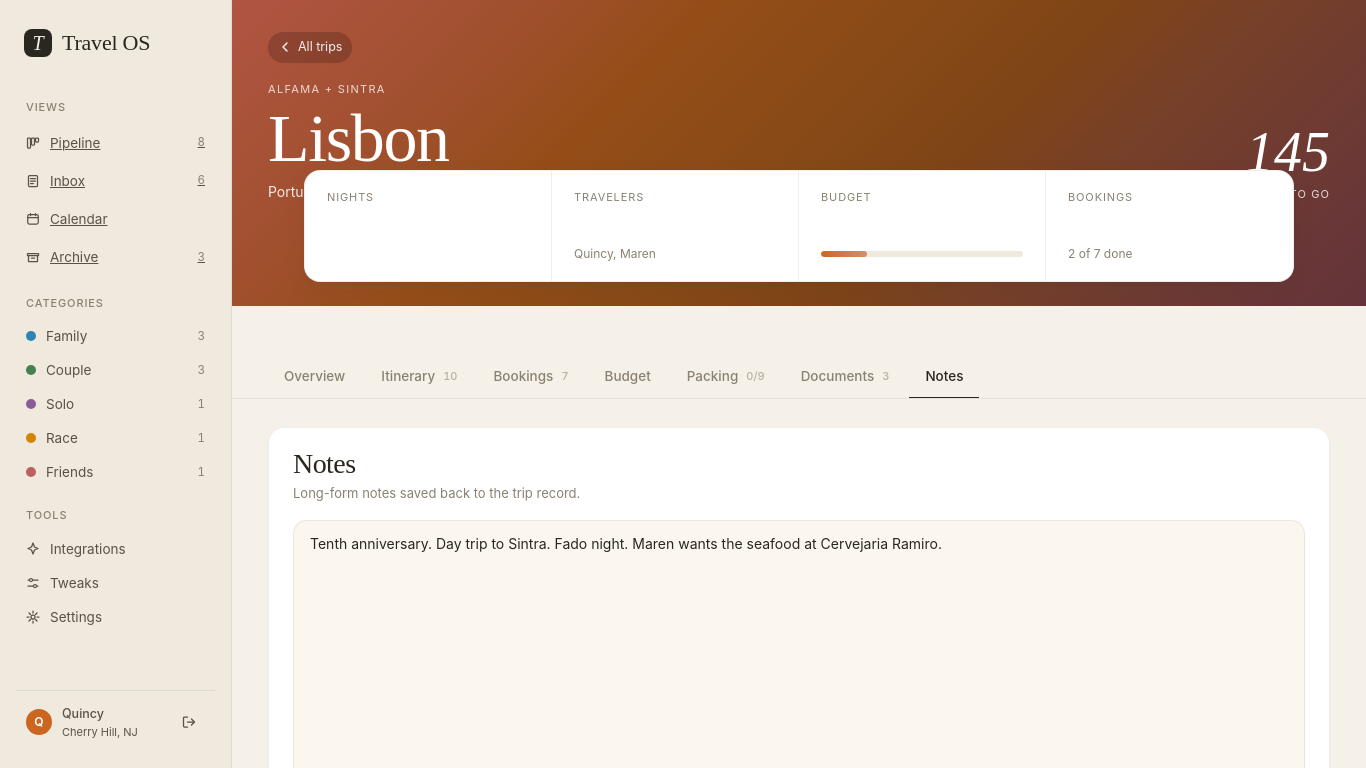
Test case: route components › budget tab shows split section for trips with splits data
Expected: the heading "Lisbon" is shown, x1=268 y1=107 x2=467 y2=171
What coordinates should you click on to do the following:
click the tab "Budget"
I would click on:
 (628, 378)
Its box is x1=588 y1=358 x2=667 y2=399.
(page scrolled)
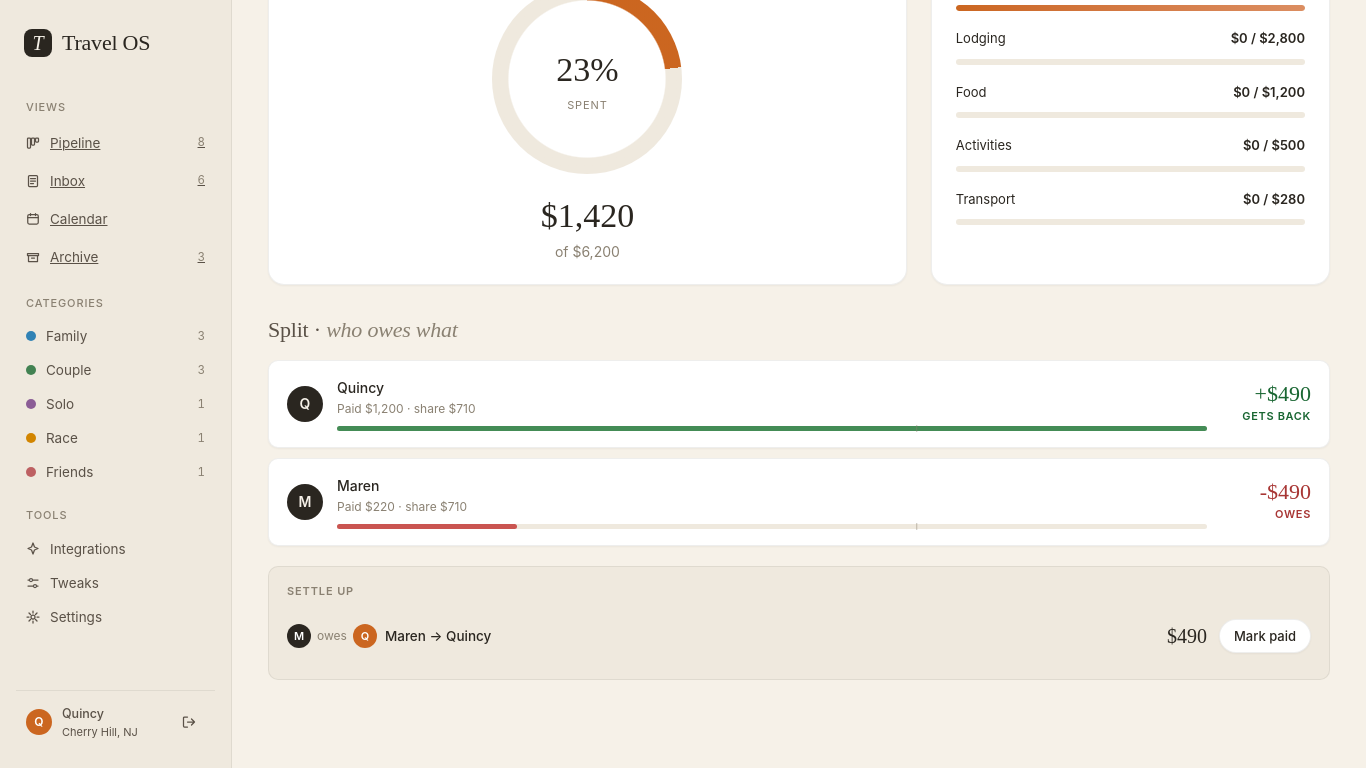
Result: the text "who owes what" is shown at x1=326 y1=316 x2=458 y2=342
Result: the text "gets back" is shown at x1=1242 y1=409 x2=1311 y2=423
Result: the text "Settle up" is shown at x1=287 y1=584 x2=354 y2=598
